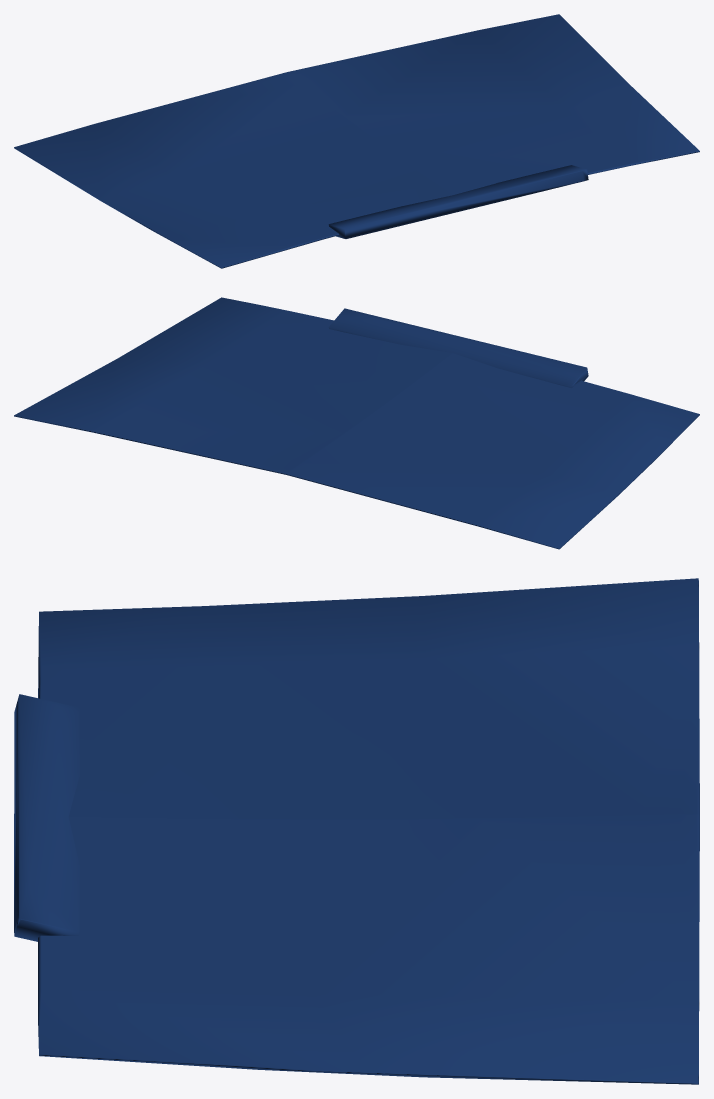
Rendered from trunk_decklid.glb.
The picture shows the model from 3 angles, top to bottom: view 1: azimuth 30°, elevation 25°; view 2: azimuth 150°, elevation 25°; view 3: azimuth 270°, elevation 25°; orthographic projection. The views are drawn at different scales.
Parts seen in each view (by area): view 1: GEO_Trunk_Decklid; view 2: GEO_Trunk_Decklid; view 3: GEO_Trunk_Decklid.
Part boxes in pixels (x1=…): GEO_Trunk_Decklid: x1=14, y1=14, x2=699, y2=268; GEO_Trunk_Decklid: x1=14, y1=297, x2=699, y2=549; GEO_Trunk_Decklid: x1=14, y1=578, x2=699, y2=1084.
Size of the model in its own units: 1.3 by 0.0385 by 0.7458.
